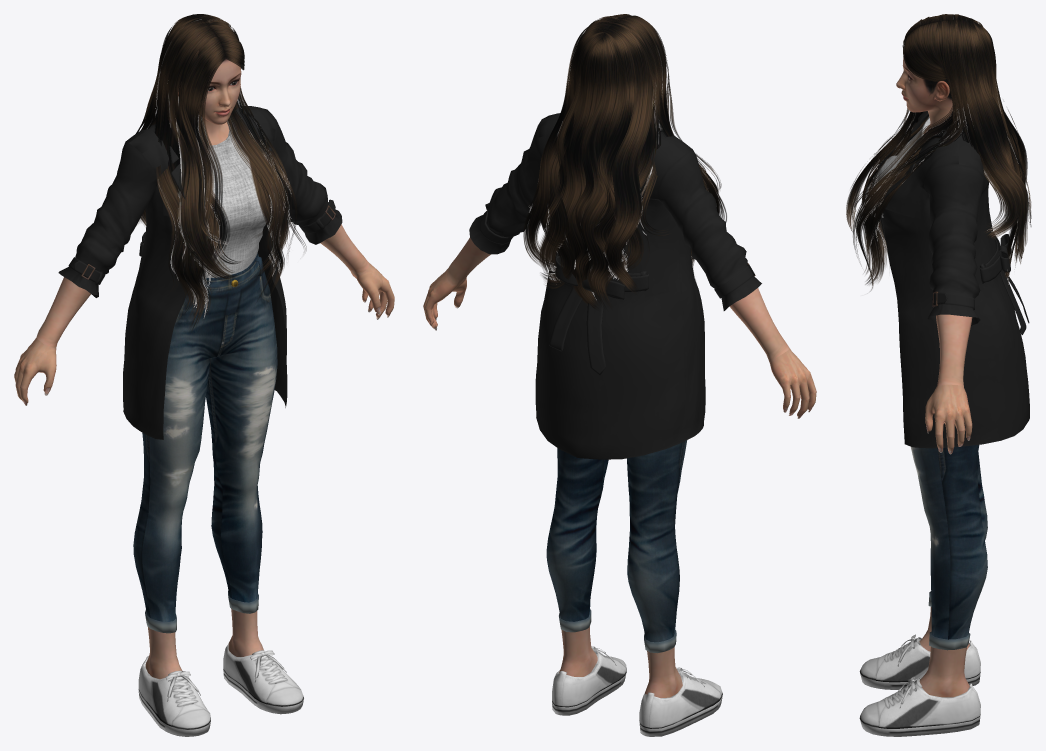
The model's file is black 3glb.glb.
The picture shows the model from 3 angles, left to right: view 1: azimuth 30°, elevation 25°; view 2: azimuth 150°, elevation 25°; view 3: azimuth 270°, elevation 25°; orthographic projection. The views are drawn at different scales.
Parts seen in each view (by area): view 1: a_f_y_indian_01.#dd.model.003, a_f_y_indian_01.#dd.model.002, a_f_y_indian_01.#dd.model, SKEL_ROOT; view 2: a_f_y_indian_01.#dd.model.003, a_f_y_indian_01.#dd.model.002, a_f_y_indian_01.#dd.model; view 3: a_f_y_indian_01.#dd.model.003, a_f_y_indian_01.#dd.model.002, a_f_y_indian_01.#dd.model, SKEL_ROOT.
Boxes of the visible parts, <box> form: a_f_y_indian_01.#dd.model.003: <box>36,106,369,736</box>; a_f_y_indian_01.#dd.model.002: <box>136,14,306,331</box>; a_f_y_indian_01.#dd.model: <box>14,262,394,405</box>; SKEL_ROOT: <box>178,36,241,124</box>; a_f_y_indian_01.#dd.model.003: <box>446,113,789,736</box>; a_f_y_indian_01.#dd.model.002: <box>523,14,726,309</box>; a_f_y_indian_01.#dd.model: <box>423,269,816,418</box>; a_f_y_indian_01.#dd.model.003: <box>859,109,1029,736</box>; a_f_y_indian_01.#dd.model.002: <box>846,14,1031,291</box>; a_f_y_indian_01.#dd.model: <box>925,384,972,454</box>; SKEL_ROOT: <box>896,20,967,112</box>.
Size of the model in its own units: 1 by 1.73 by 0.4273.
4 materials, 4 textured.
